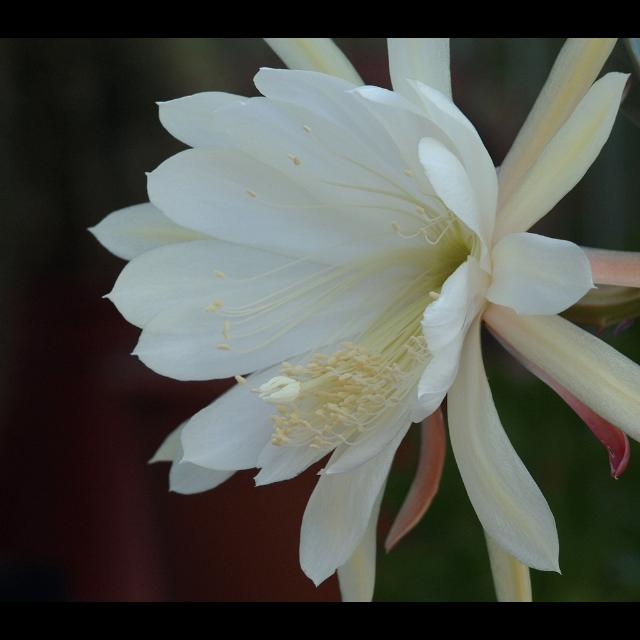Flower: (79, 40, 619, 586)
